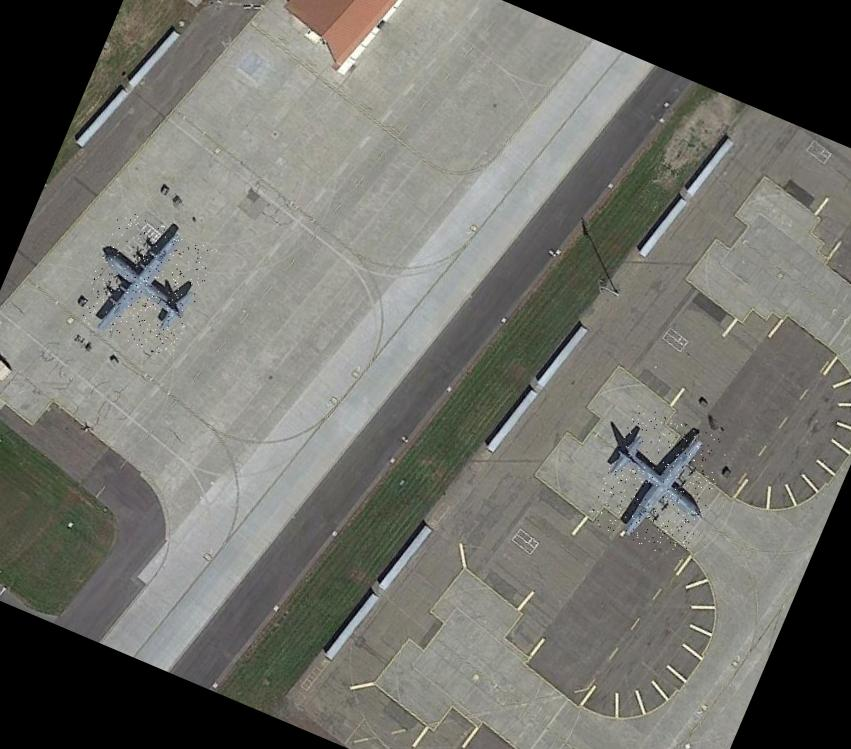A2: (584, 402, 732, 562), (74, 208, 217, 360)
